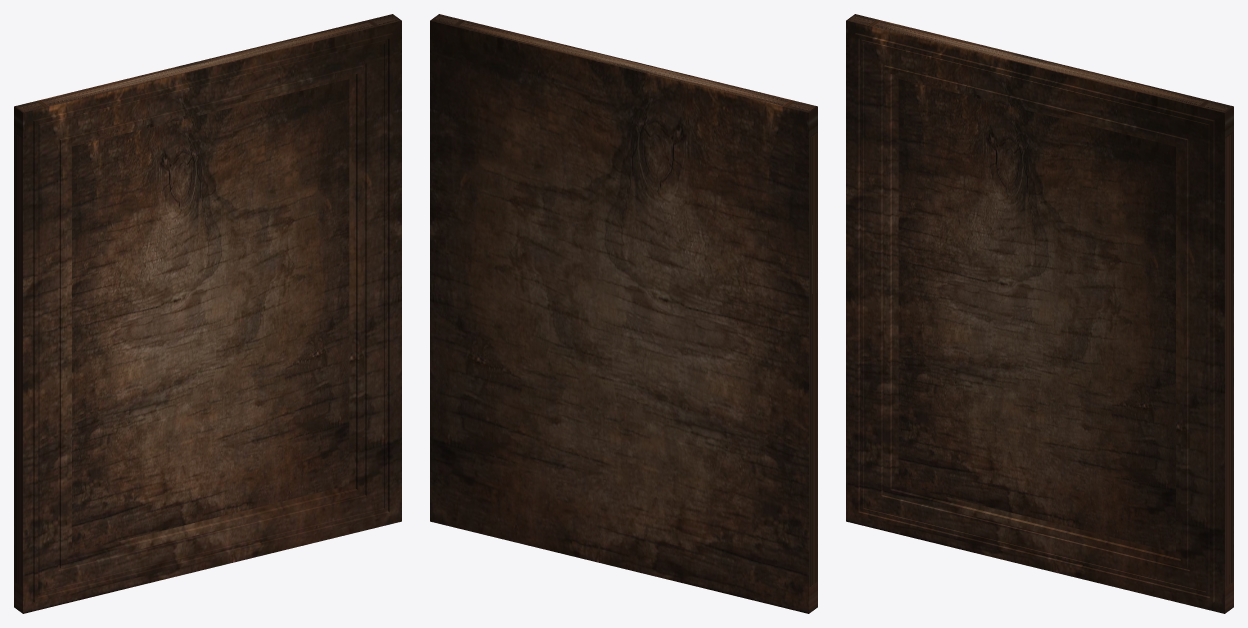
Rendered from Cuadro.obj.
3 views of the same model, side by side, from view 1: azimuth 30°, elevation 25°; view 2: azimuth 150°, elevation 25°; view 3: azimuth 330°, elevation 25° (orthographic).
Parts seen in each view (by area): view 1: objPainting:Painting; view 2: objPainting:Painting; view 3: objPainting:Painting.
Boxes of the visible parts, x1=… form: objPainting:Painting: x1=14, y1=14, x2=401, y2=613; objPainting:Painting: x1=430, y1=14, x2=817, y2=613; objPainting:Painting: x1=846, y1=14, x2=1233, y2=613.
Size of the model in its own units: 3.87 by 4.89 by 0.1854.
2 materials, 2 textured.
